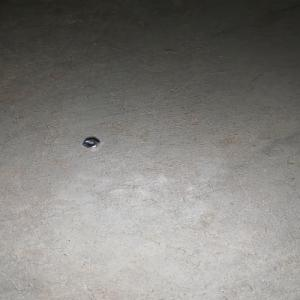Nut: (82, 138, 100, 148)
